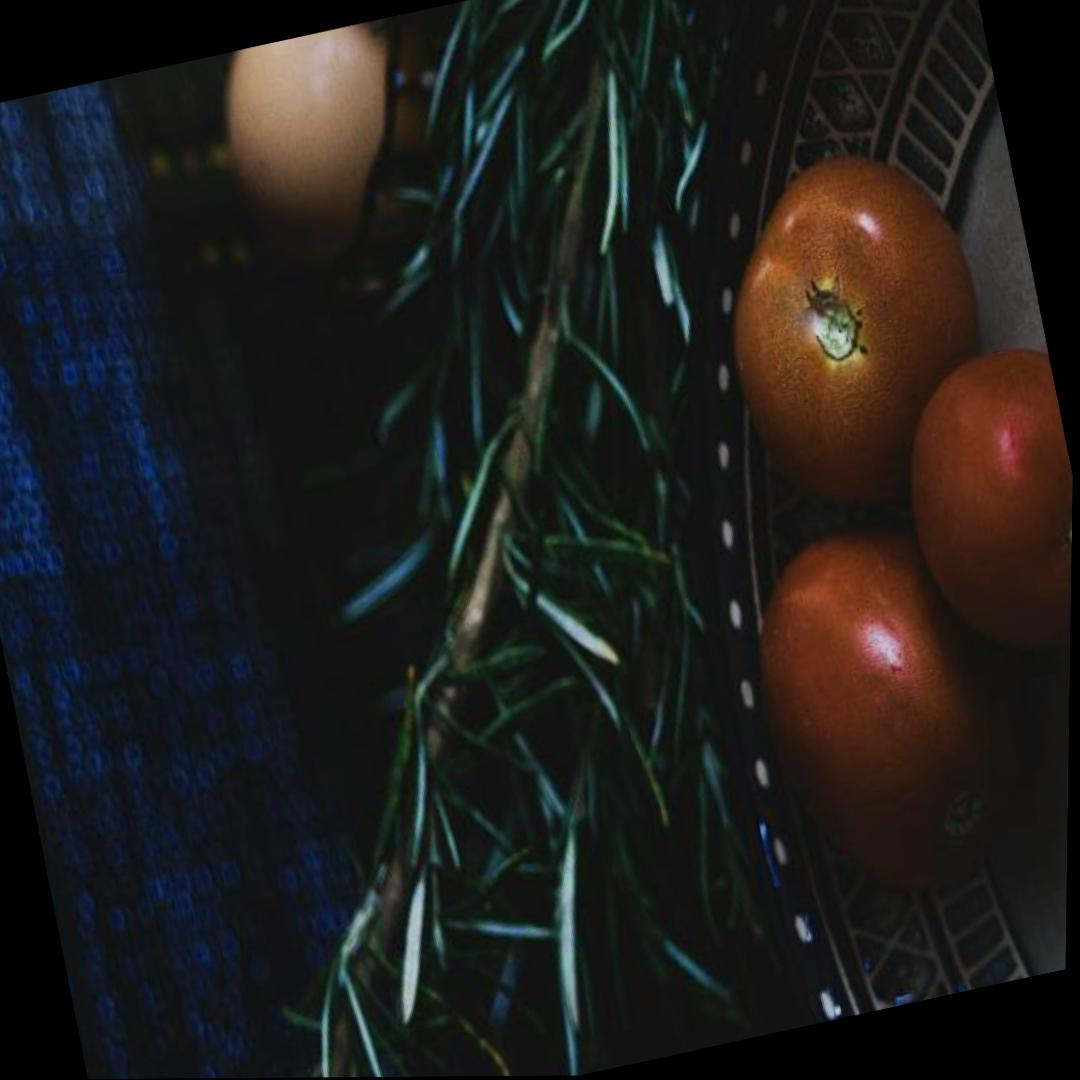matang: (729, 508, 1061, 920), (696, 133, 1016, 533), (879, 342, 1075, 675)
